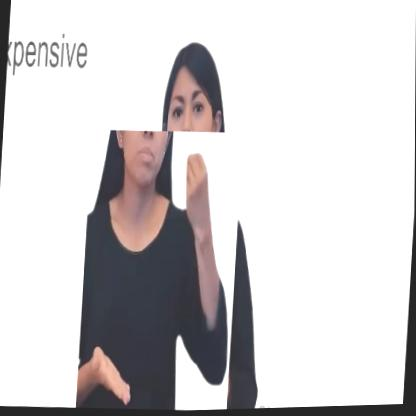Expensive: (76, 125, 242, 414)
